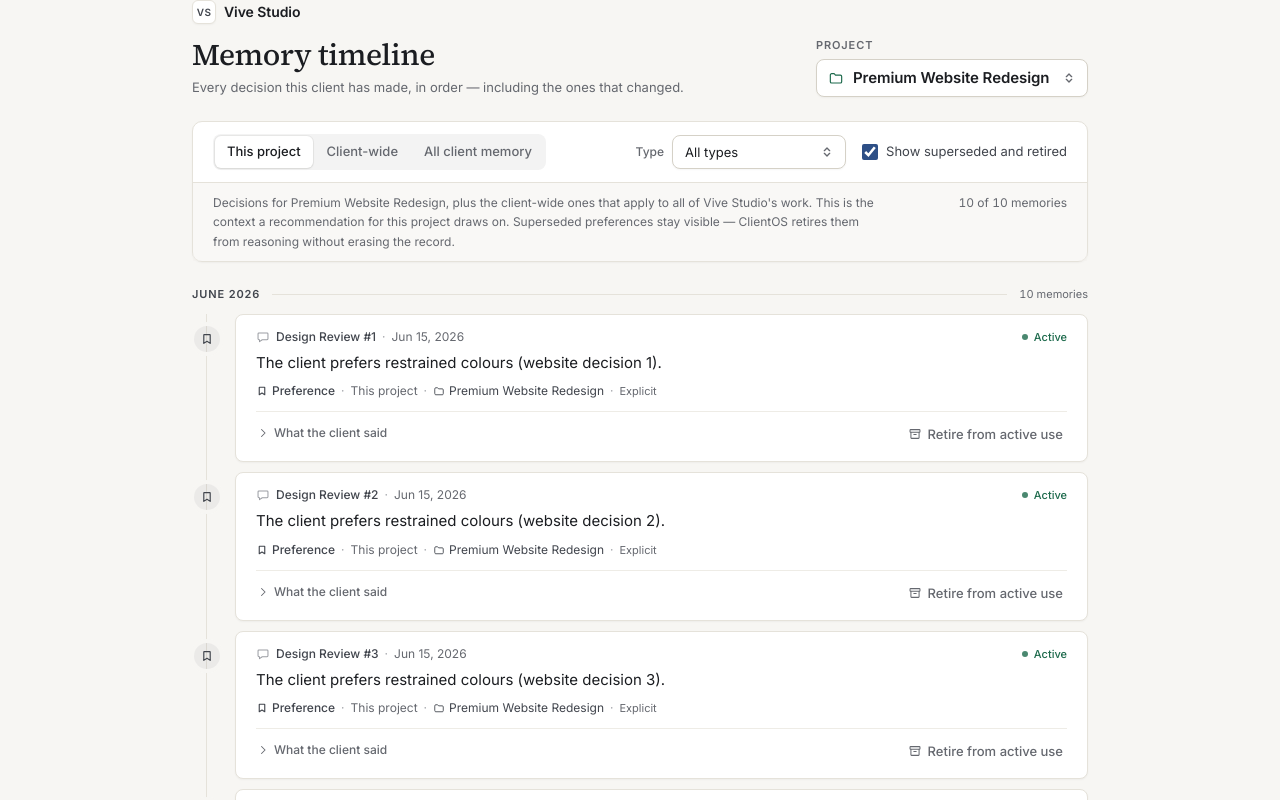
MemoryTimeline — view options › the all-client view spans projects and keeps every memory’s owner
Expected: the text "The client prefers restrained colours (website decision 1)." is shown, [256,353,662,372]
Click the tab "All client memory" at (478, 152), box [412,136,544,168]
(page scrolled)
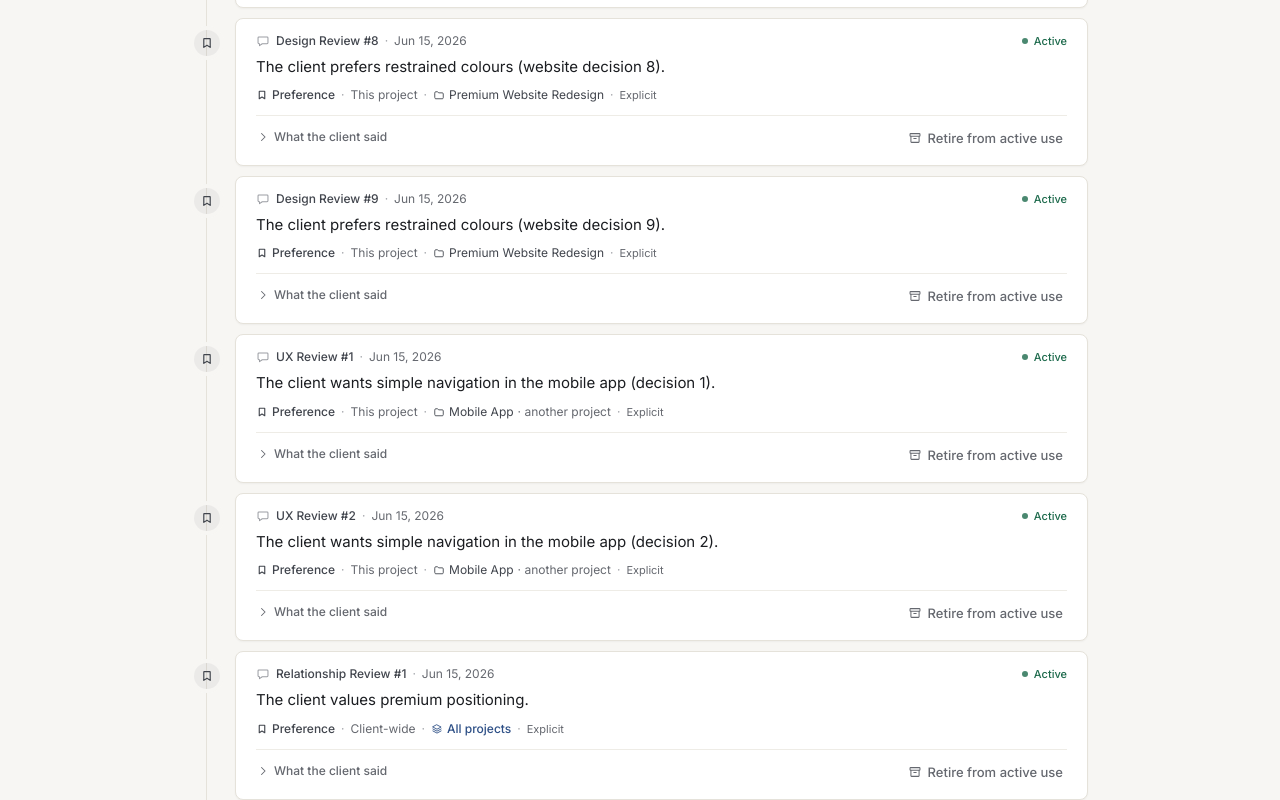
Expected: the text "values premium positioning" shows "All projects", [447,720,511,736]
Now the text "mobile app (decision 1)" is shown, box [449,404,514,419]
Now the text "mobile app (decision 1)" shows "another project", box [518,404,611,419]
